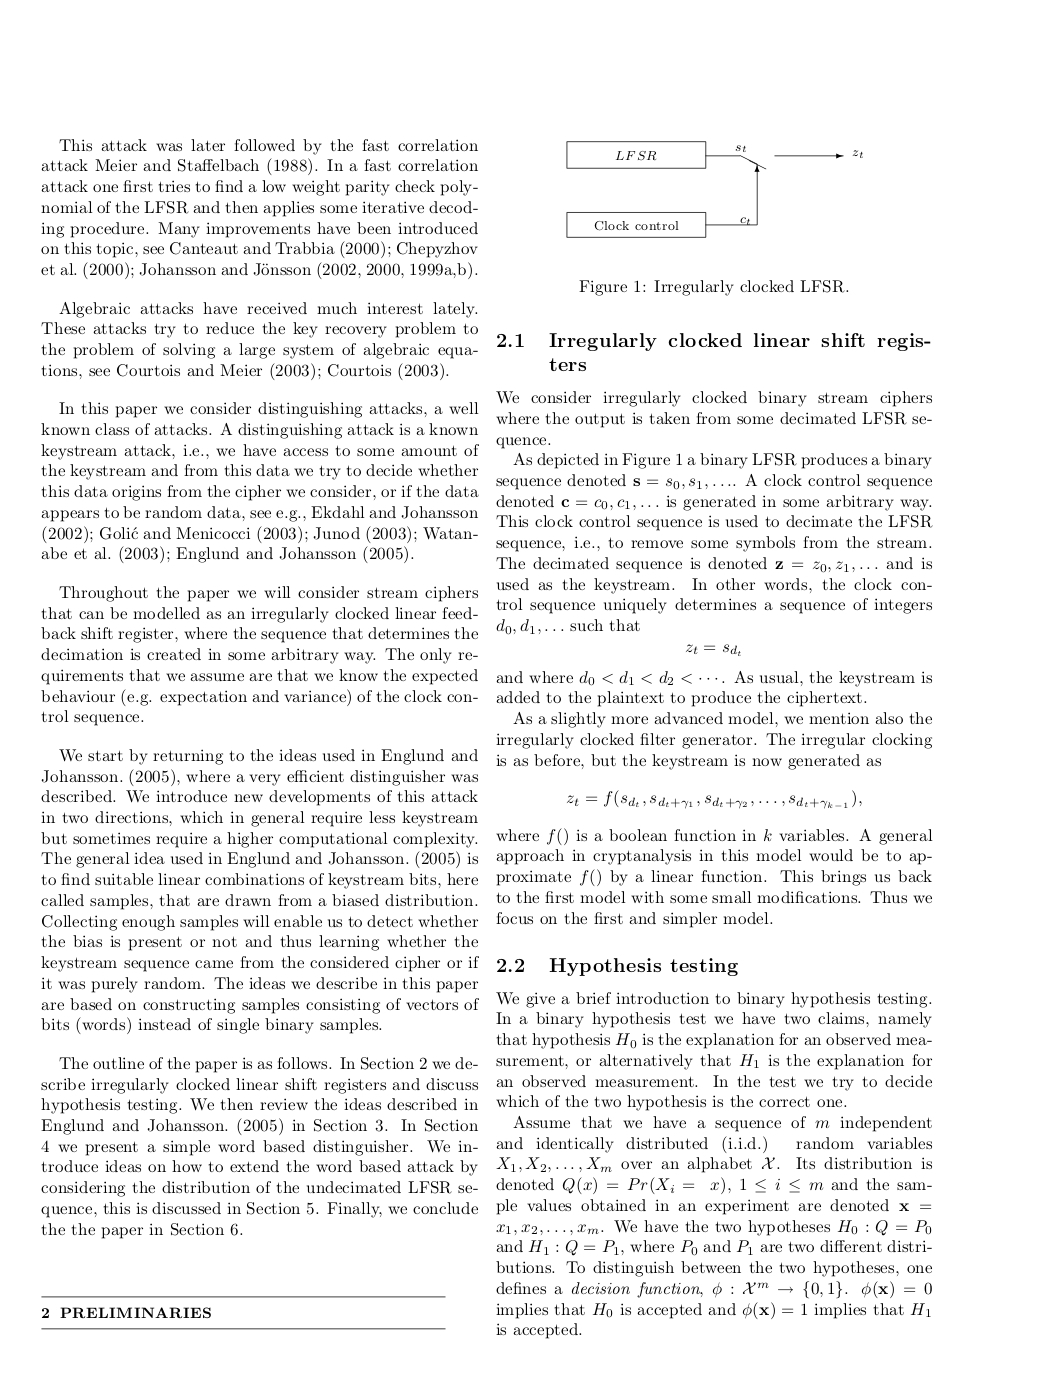figure: (566, 140, 862, 238)
formula: (566, 789, 862, 809), (685, 642, 740, 656)
